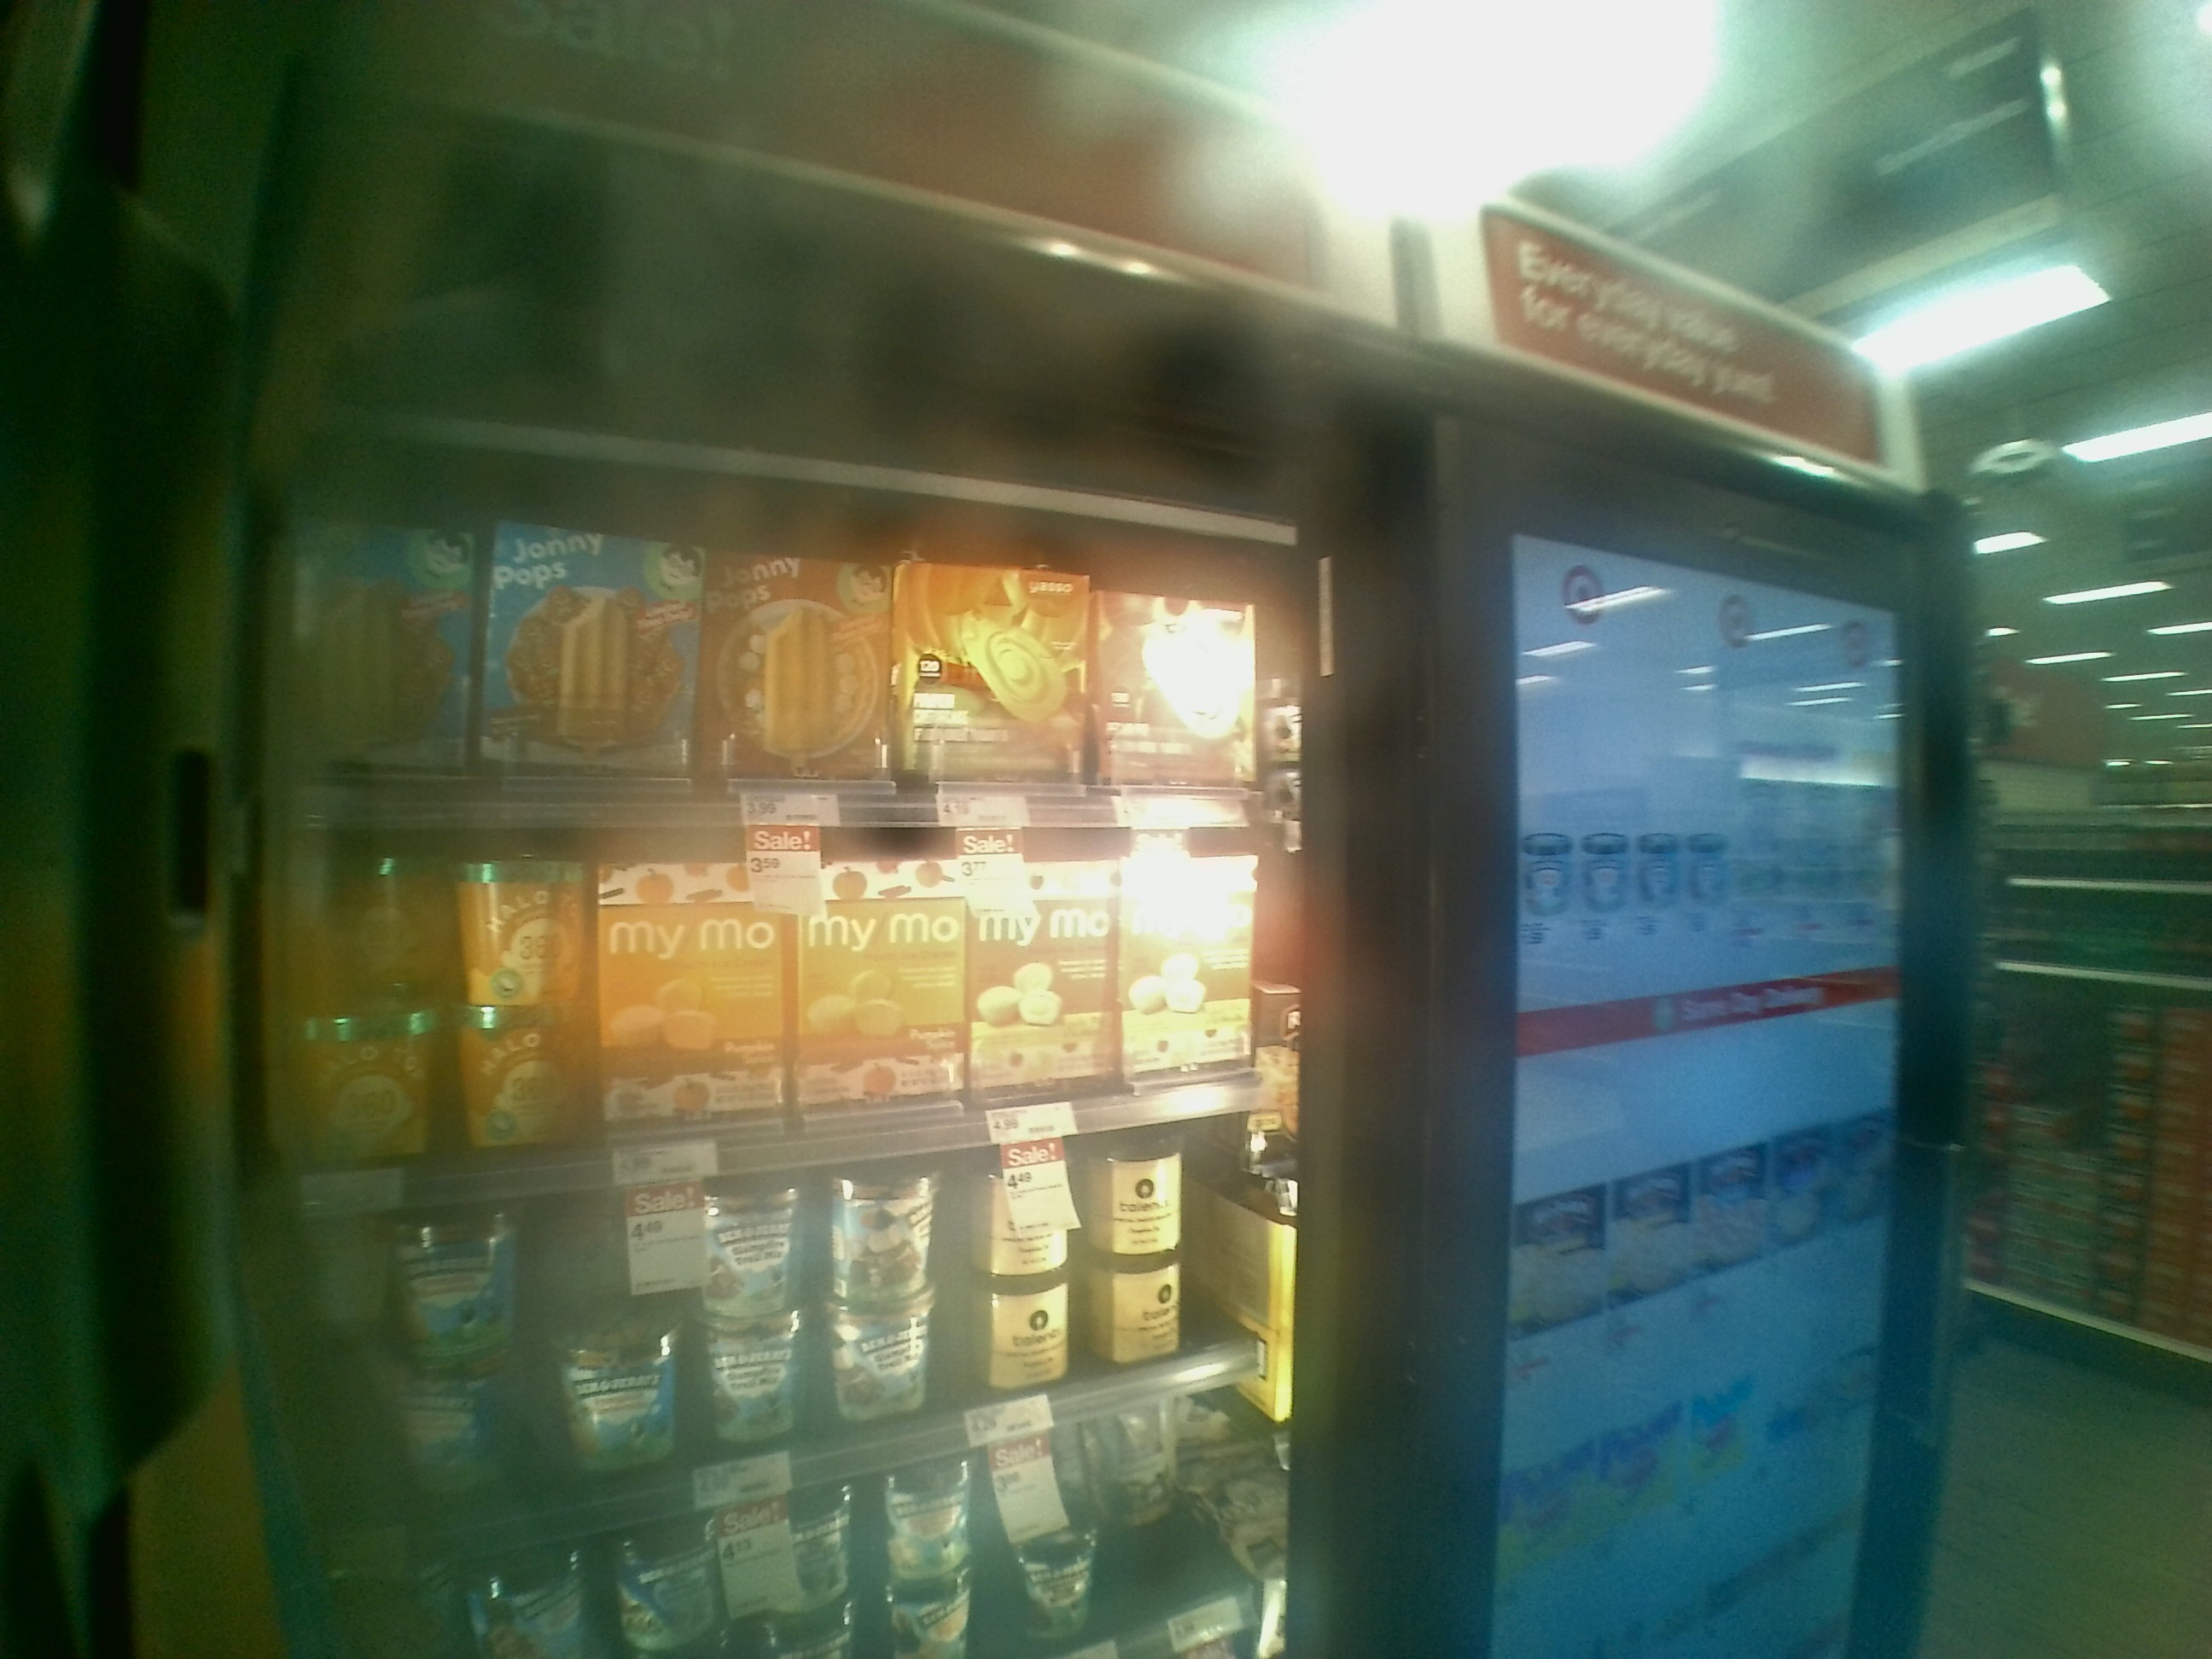shelf: (253, 1164, 1325, 1572), (265, 476, 1310, 838), (244, 828, 1310, 1161)
